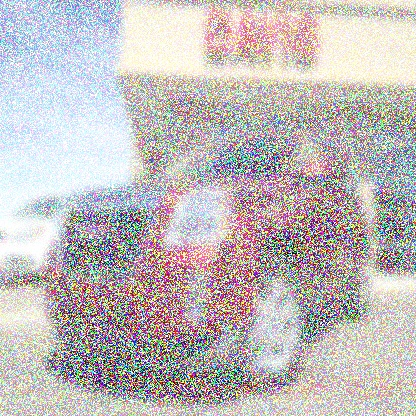Vehicle: (43, 126, 371, 392)
